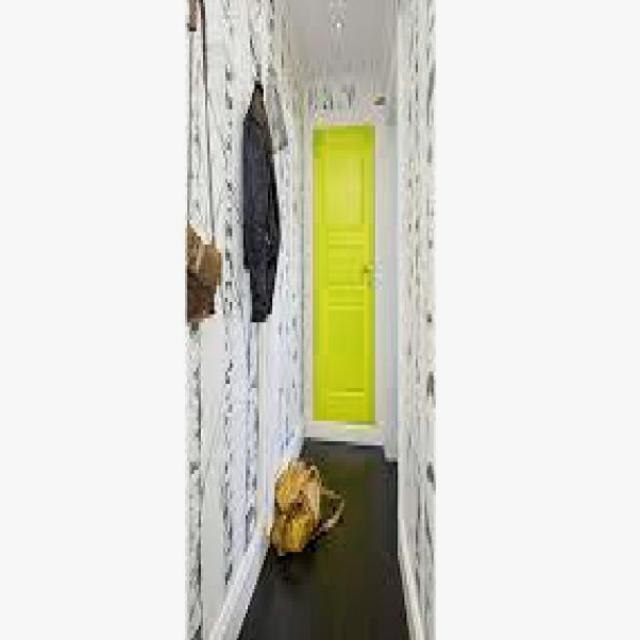door: (310, 122, 376, 424)
